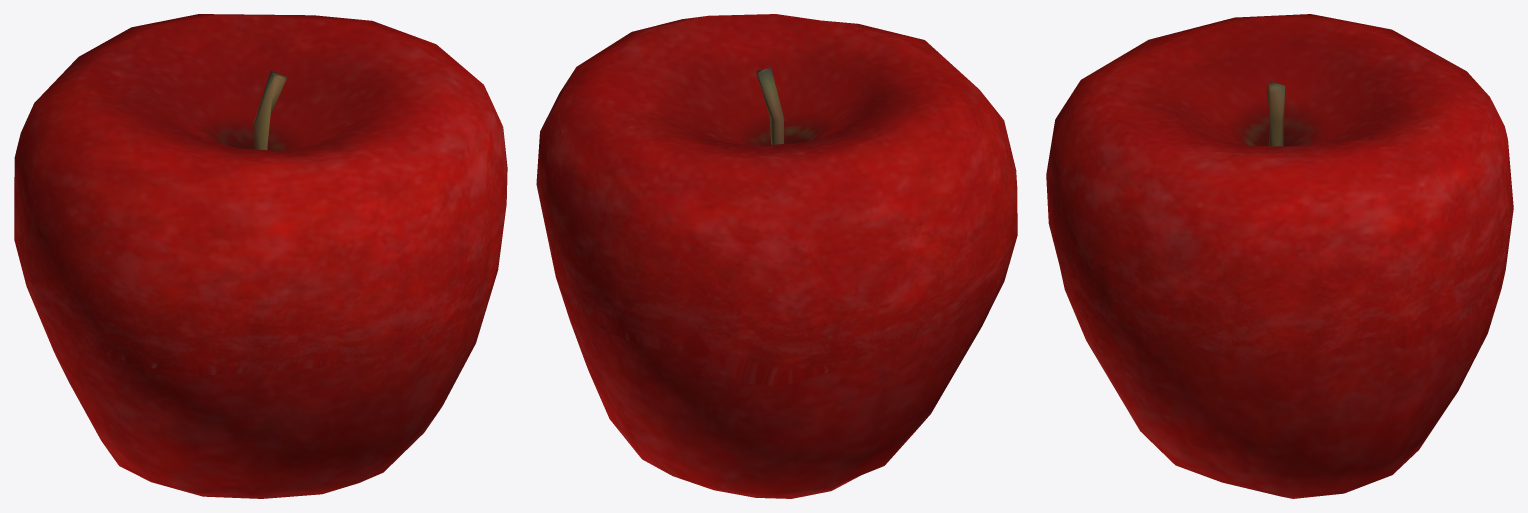
The model's file is Apple_22.obj.
The picture shows the model from 3 angles, left to right: view 1: azimuth 30°, elevation 25°; view 2: azimuth 150°, elevation 25°; view 3: azimuth 270°, elevation 25°; orthographic projection. The views are drawn at different scales.
Visible parts, largest first — view 1: apple_b7; view 2: apple_b7; view 3: apple_b7.
Part boxes in pixels (<box>): apple_b7: <box>14,14,507,498</box>; apple_b7: <box>536,14,1017,498</box>; apple_b7: <box>1046,14,1513,498</box>.
Bounding box in the file's own units: 0.0895 × 0.0783 × 0.0881.
